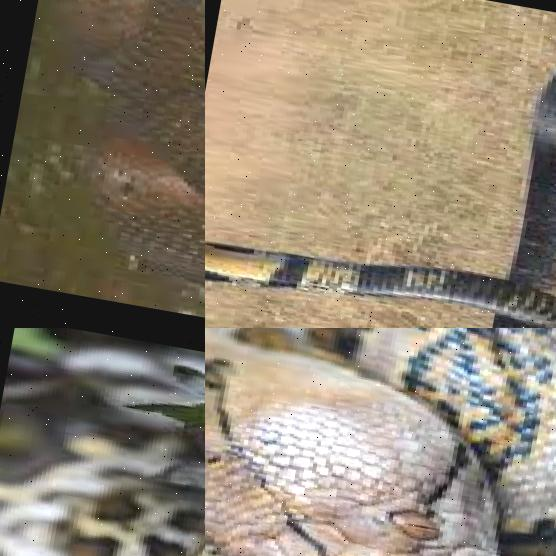snake: (205, 328, 556, 556), (0, 0, 205, 328), (205, 180, 556, 328), (0, 377, 205, 556)
